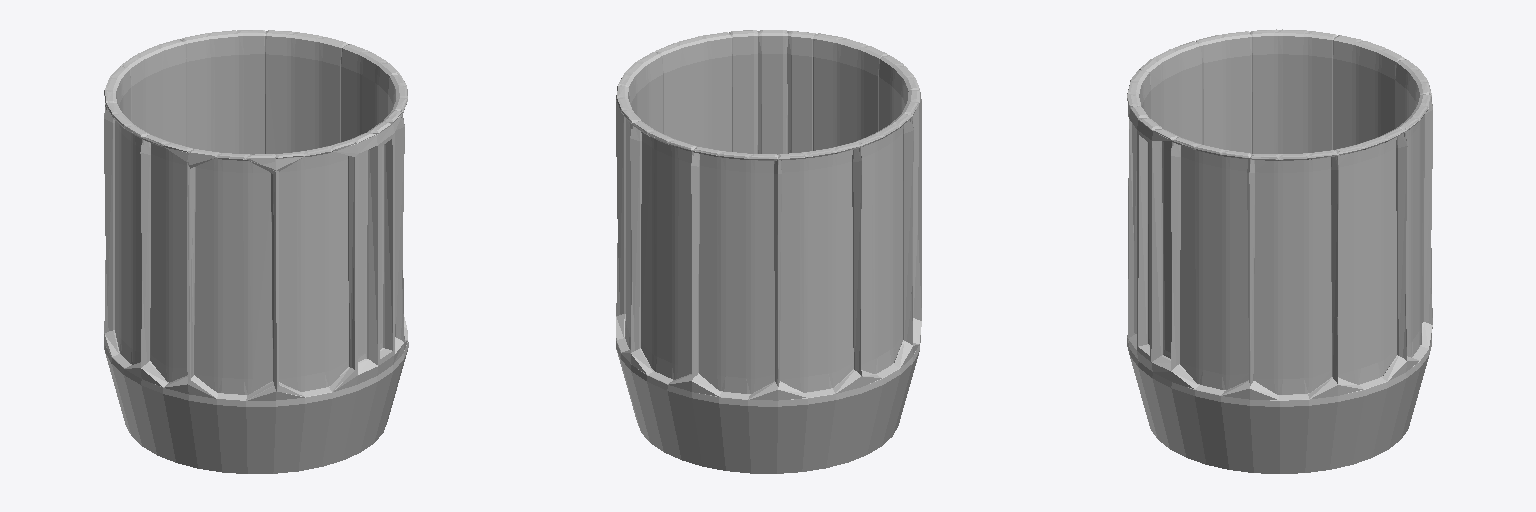
The model's file is bin.obj.
The picture shows the model from 3 angles: view 1: azimuth 30°, elevation 25°; view 2: azimuth 150°, elevation 25°; view 3: azimuth 270°, elevation 25°; orthographic projection.
Parts seen in each view (by area): view 1: Circle; view 2: Circle; view 3: Circle.
Boxes of the visible parts, x1=… form: Circle: x1=104, y1=30, x2=408, y2=473; Circle: x1=616, y1=30, x2=921, y2=473; Circle: x1=1127, y1=29, x2=1432, y2=473.
Size of the model in its own units: 1.28 by 1.51 by 1.29.